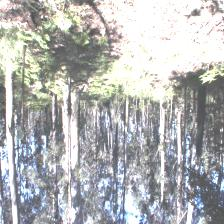trunktrack_idkeyframe: (64, 98, 82, 166), (6, 73, 16, 161), (196, 89, 207, 146)
